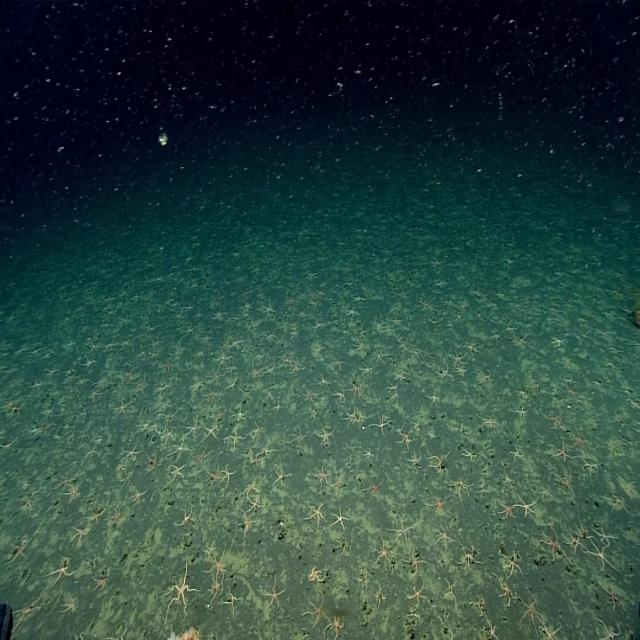brittle-stars: (158, 548, 204, 624), (7, 580, 52, 638), (517, 581, 552, 638), (386, 509, 426, 554), (4, 522, 34, 576), (399, 577, 438, 616), (302, 589, 337, 631), (538, 519, 567, 568), (257, 572, 289, 616), (588, 535, 622, 576), (326, 586, 351, 640), (43, 551, 82, 585), (600, 424, 635, 461), (456, 541, 490, 576), (593, 605, 626, 640), (208, 539, 234, 583), (425, 442, 454, 481), (431, 516, 464, 550), (403, 542, 435, 577), (608, 484, 636, 524), (494, 566, 519, 609), (90, 560, 118, 598), (516, 483, 542, 523), (58, 582, 85, 620), (362, 470, 386, 512), (539, 607, 569, 640), (375, 527, 394, 576), (565, 524, 590, 561), (565, 426, 593, 458), (603, 580, 630, 612), (167, 434, 196, 463), (67, 515, 95, 545), (256, 432, 284, 462), (428, 489, 456, 519), (486, 600, 507, 640), (246, 412, 272, 444), (547, 438, 579, 464), (63, 470, 87, 504), (443, 570, 463, 610), (225, 579, 246, 617), (371, 404, 393, 440), (594, 521, 622, 549), (502, 549, 531, 576), (498, 492, 521, 526), (304, 554, 330, 584), (309, 496, 329, 535), (288, 421, 313, 452), (235, 510, 262, 538), (467, 588, 492, 618), (144, 446, 167, 478), (209, 568, 230, 603), (331, 500, 353, 533), (314, 419, 339, 448), (311, 459, 334, 490), (355, 560, 377, 592), (460, 440, 483, 470), (558, 466, 580, 497), (204, 462, 226, 492), (209, 360, 229, 393), (107, 613, 131, 640), (119, 438, 146, 462), (191, 441, 215, 468), (344, 401, 362, 437), (151, 390, 178, 414), (184, 494, 206, 523), (223, 427, 250, 450), (505, 435, 528, 462), (547, 402, 567, 433), (437, 622, 471, 640), (110, 392, 133, 418), (361, 439, 383, 466), (245, 490, 269, 514), (20, 486, 42, 512), (452, 472, 474, 498), (436, 360, 458, 386), (332, 468, 352, 496), (514, 395, 534, 423), (426, 384, 446, 412), (221, 458, 239, 489), (184, 409, 203, 438), (332, 380, 351, 409), (230, 398, 251, 424), (90, 498, 108, 528), (108, 500, 128, 527), (332, 532, 354, 556), (244, 473, 262, 502), (330, 349, 350, 375), (577, 518, 600, 540), (274, 460, 292, 488), (375, 580, 393, 608), (539, 478, 557, 506), (150, 374, 174, 395), (170, 457, 190, 482), (84, 546, 103, 572), (398, 427, 415, 456), (478, 362, 495, 391), (582, 456, 604, 478), (203, 419, 224, 442), (481, 412, 502, 435), (407, 446, 426, 471), (348, 376, 367, 401), (299, 386, 325, 404), (131, 483, 152, 505), (387, 372, 408, 393), (72, 620, 94, 640), (84, 440, 103, 463), (58, 468, 76, 492), (358, 357, 378, 378), (238, 383, 258, 404), (230, 330, 250, 351), (448, 347, 472, 364), (120, 466, 136, 491), (309, 337, 329, 357), (246, 365, 266, 385), (226, 358, 244, 380), (202, 385, 226, 401), (278, 350, 297, 370), (290, 358, 308, 379), (138, 410, 155, 432), (164, 403, 180, 426), (162, 423, 180, 443), (396, 358, 416, 376), (563, 382, 583, 400), (453, 359, 474, 376), (226, 371, 242, 393), (264, 358, 278, 383), (249, 446, 264, 469), (356, 404, 370, 428), (213, 404, 232, 421), (315, 370, 332, 389), (16, 474, 33, 492), (308, 402, 325, 420), (275, 394, 288, 416), (626, 474, 640, 494), (77, 402, 91, 421), (504, 466, 516, 488), (392, 422, 408, 438), (192, 372, 204, 393), (87, 384, 101, 401), (117, 455, 129, 474), (427, 358, 442, 373), (253, 350, 269, 364), (152, 415, 164, 433), (29, 506, 45, 518)
